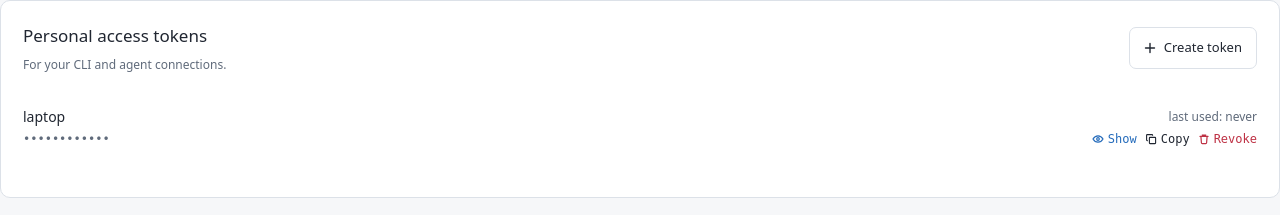
Test: PersonalTokensCard › reveals a value on demand, because tokens here are retrievable by design
The image size is (1280, 215).
Check: the text "laptop" is shown, box left=23, top=106, right=65, bottom=126
Click the button "Show" at (1114, 138), box left=1092, top=130, right=1137, bottom=146
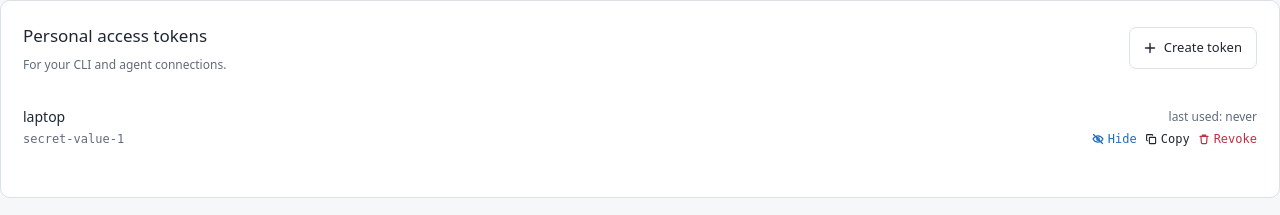
Check: the text "secret-value-1" is shown, box left=23, top=132, right=124, bottom=146
